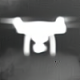plane: (1, 15, 79, 58)
